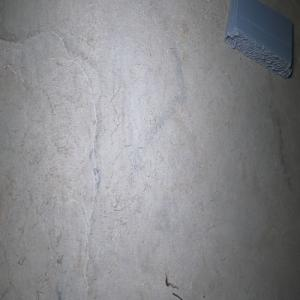PlasticPart: (223, 0, 293, 79)
